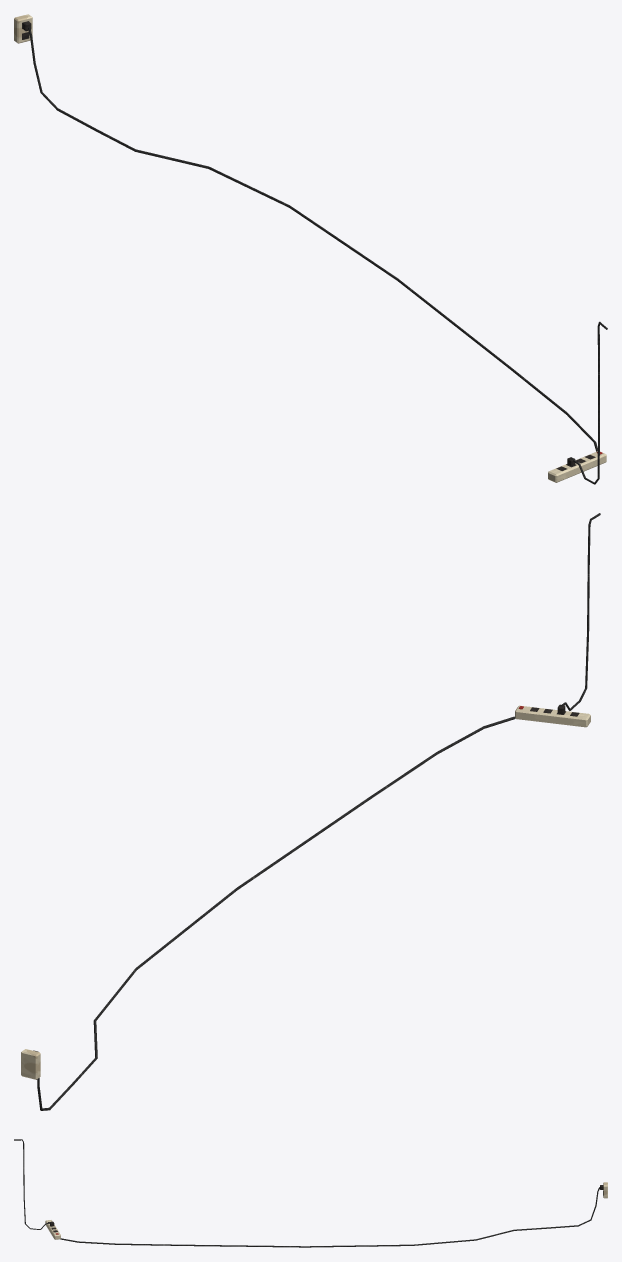
The model's file is gk_cordlamp.glb.
3 renders of one model, top to bottom at view 1: azimuth 30°, elevation 25°; view 2: azimuth 150°, elevation 25°; view 3: azimuth 270°, elevation 25°, orthographic. The views are drawn at different scales.
Parts seen in each view (by area): view 1: p; view 2: p; view 3: p.
Boxes of the visible parts, x1=… form: p: x1=14, y1=14, x2=607, y2=484; p: x1=21, y1=513, x2=600, y2=1110; p: x1=14, y1=1139, x2=607, y2=1247.
Size of the model in its own units: 0.4729 by 0.7936 by 4.71.
Materials: 5 (5 with a texture image).
